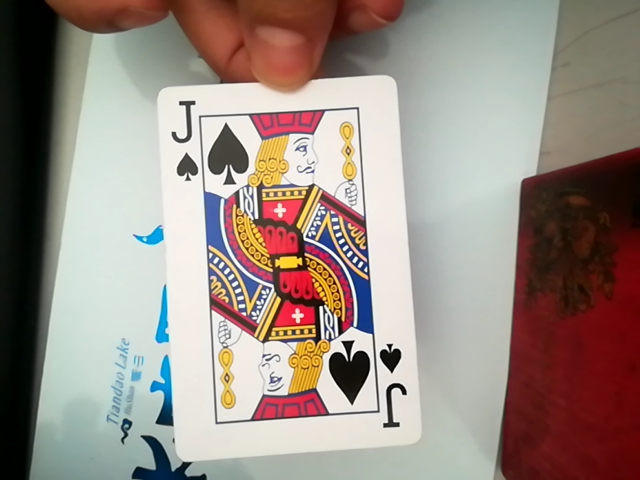ht j: (154, 61, 419, 474)
